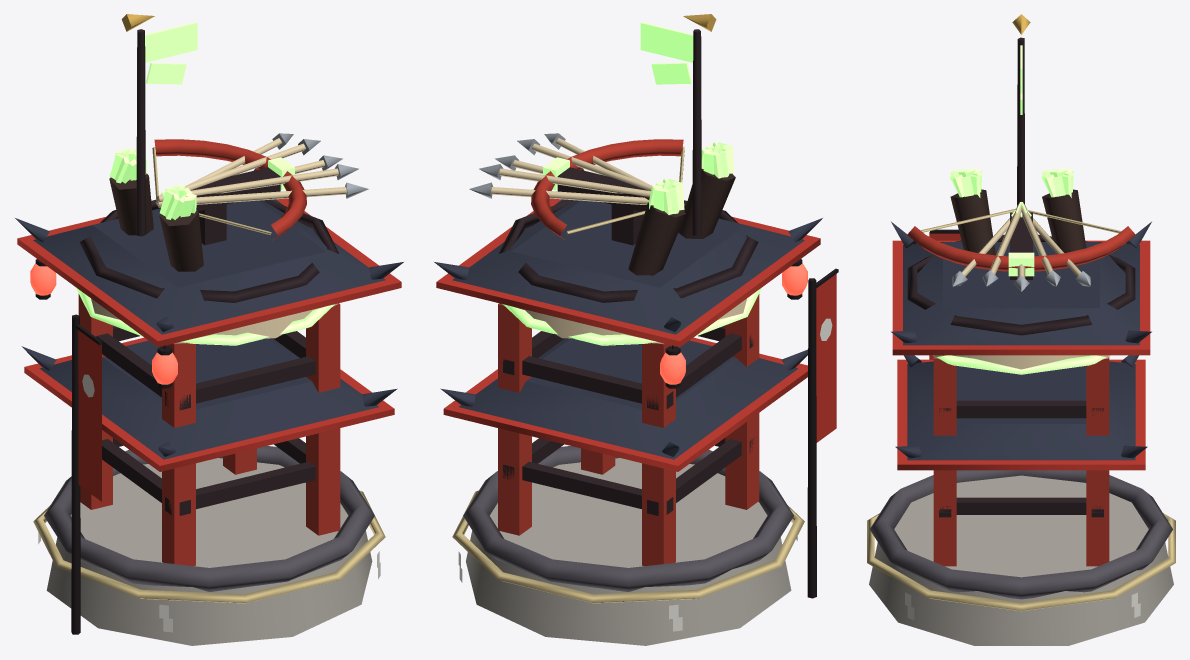
File: tower_archer_arrowRain.glb
3 views of the same model, side by side, from view 1: azimuth 30°, elevation 25°; view 2: azimuth 150°, elevation 25°; view 3: azimuth 270°, elevation 25° (orthographic). The views are drawn at different scales.
Visible parts, largest first — view 1: base, deco_eave_0_roof, deco_eave_1_roof, base_rim, deco_eave_0_rim, post_en, post_wn, deco_eave_1_rim, deco_shimenawa_rope, rail, deco_nobori_cloth, bow (+23 smaller); view 2: base, deco_eave_0_roof, deco_eave_1_roof, base_rim, deco_eave_0_rim, deco_eave_1_rim, post_es, post_ws, deco_shimenawa_rope, post_wn, rail, deco_nobori_cloth (+25 smaller); view 3: base, deco_eave_0_roof, deco_eave_1_roof, base_rim, deco_eave_0_rim, deco_eave_1_rim, post_en, post_es, deco_shimenawa_rope, rail, bow, beam_z_1_e (+12 smaller).
Boxes of the visible parts, left/top/right/bottom form: base: left=46, top=458, right=372, bottom=645; deco_eave_0_roof: left=33, top=199, right=385, bottom=334; deco_eave_1_roof: left=39, top=338, right=378, bottom=459; base_rim: left=44, top=446, right=374, bottom=591; deco_eave_0_rim: left=17, top=198, right=401, bottom=347; post_en: left=306, top=303, right=340, bottom=535; post_wn: left=162, top=343, right=195, bottom=566; deco_eave_1_rim: left=24, top=337, right=394, bottom=471; deco_shimenawa_rope: left=33, top=490, right=385, bottom=603; rail: left=79, top=199, right=339, bottom=302; deco_nobori_cloth: left=78, top=330, right=101, bottom=501; bow: left=154, top=139, right=306, bottom=240; base: left=466, top=458, right=791, bottom=645; deco_eave_0_roof: left=452, top=199, right=804, bottom=334; deco_eave_1_roof: left=459, top=338, right=798, bottom=459; base_rim: left=463, top=446, right=793, bottom=591; deco_eave_0_rim: left=436, top=198, right=820, bottom=347; deco_eave_1_rim: left=443, top=337, right=807, bottom=471; post_es: left=498, top=303, right=531, bottom=535; post_ws: left=642, top=343, right=675, bottom=566; deco_shimenawa_rope: left=452, top=490, right=804, bottom=603; post_wn: left=725, top=294, right=759, bottom=509; rail: left=498, top=200, right=758, bottom=302; deco_nobori_cloth: left=816, top=274, right=836, bottom=442; base: left=869, top=475, right=1173, bottom=645; deco_eave_0_roof: left=903, top=242, right=1139, bottom=345; deco_eave_1_roof: left=907, top=361, right=1135, bottom=460; base_rim: left=870, top=470, right=1172, bottom=599; deco_eave_0_rim: left=892, top=240, right=1150, bottom=355; deco_eave_1_rim: left=897, top=359, right=1145, bottom=470; post_en: left=933, top=357, right=956, bottom=566; post_es: left=1086, top=357, right=1109, bottom=566; deco_shimenawa_rope: left=867, top=513, right=1175, bottom=611; rail: left=907, top=234, right=1135, bottom=335; bow: left=907, top=226, right=1135, bottom=271; beam_z_1_e: left=956, top=400, right=1086, bottom=418.
Size of the model in its own units: 0.4387 by 0.772 by 0.4052.
